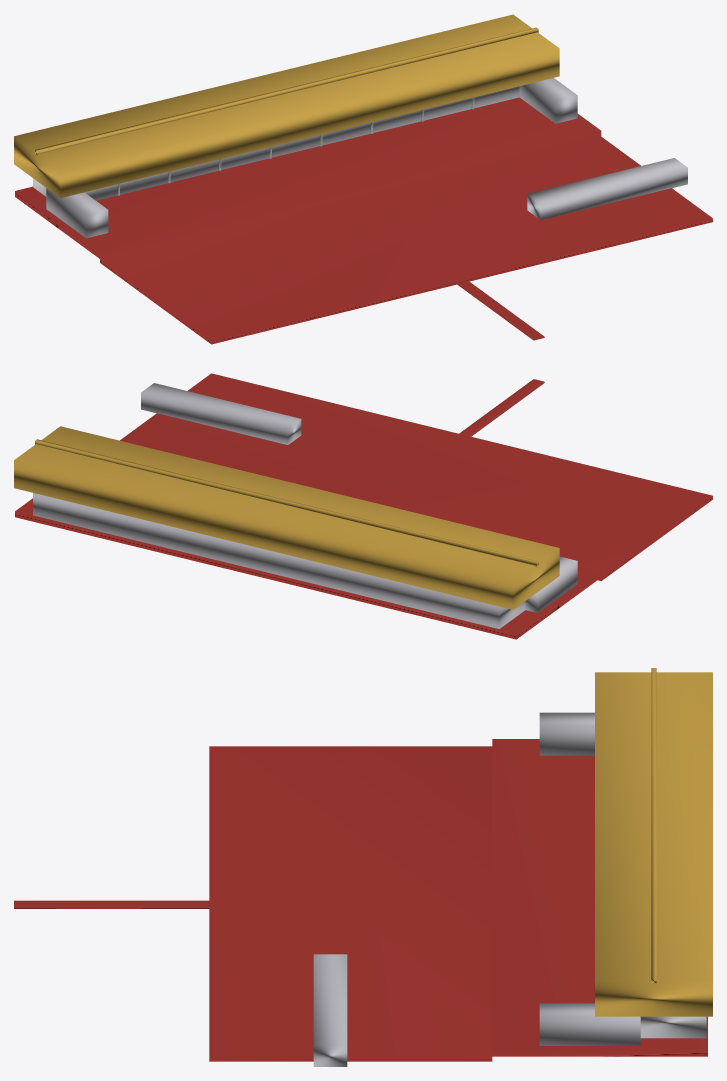
3 views of the same model, one above another, from view 1: azimuth 30°, elevation 25°; view 2: azimuth 150°, elevation 25°; view 3: azimuth 270°, elevation 25° (orthographic). The views are drawn at different scales.
Visible parts, largest first — view 1: woldae_simplified, roof_simplified, shrine_simplified, gongsin_simplified; view 2: woldae_simplified, roof_simplified, shrine_simplified, gongsin_simplified; view 3: woldae_simplified, roof_simplified, shrine_simplified, gongsin_simplified.
Boxes of the visible parts, x1=… form: woldae_simplified: x1=15, y1=97, x2=712, y2=344; roof_simplified: x1=14, y1=14, x2=559, y2=197; shrine_simplified: x1=33, y1=78, x2=577, y2=238; gongsin_simplified: x1=527, y1=158, x2=687, y2=219; woldae_simplified: x1=15, y1=373, x2=712, y2=639; roof_simplified: x1=14, y1=426, x2=559, y2=609; shrine_simplified: x1=33, y1=493, x2=577, y2=628; gongsin_simplified: x1=141, y1=383, x2=301, y2=444; woldae_simplified: x1=14, y1=739, x2=707, y2=1061; roof_simplified: x1=595, y1=668, x2=712, y2=1016; shrine_simplified: x1=539, y1=712, x2=706, y2=1045; gongsin_simplified: x1=313, y1=954, x2=347, y2=1066.
Size of the model in its own units: 112 by 13.6 by 104.
3 materials, 3 textured.
